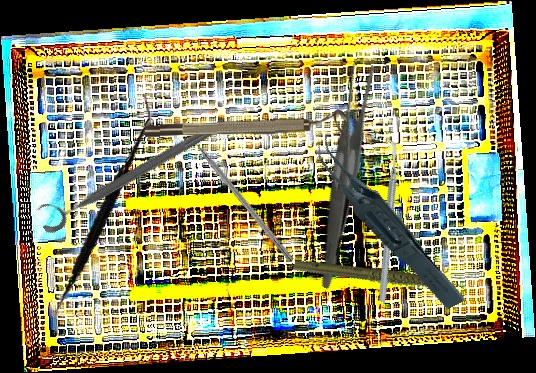Chopper: (316, 136, 456, 305)
Dressing Forceps: (253, 56, 432, 291)
Fixation Ring: (32, 107, 223, 237), (144, 109, 348, 141)
Handpiece: (291, 224, 470, 333)
Hook Surgical: (179, 122, 295, 264)
Spatula Surgical: (21, 93, 180, 337)
Tissue Forceps: (311, 112, 467, 331)
